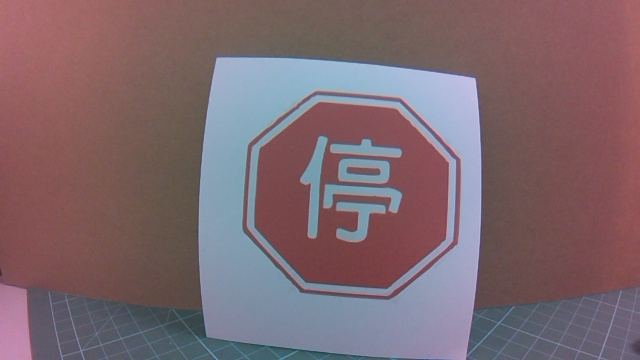stop: (239, 101, 425, 307)
